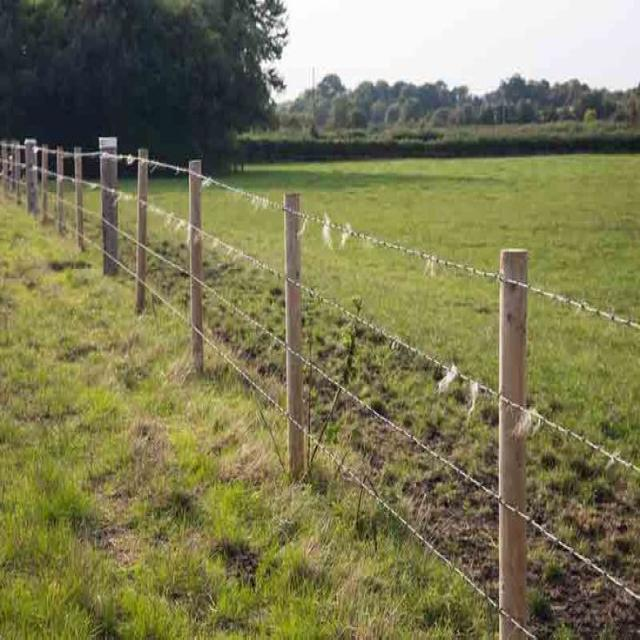fence: (5, 141, 639, 639)
